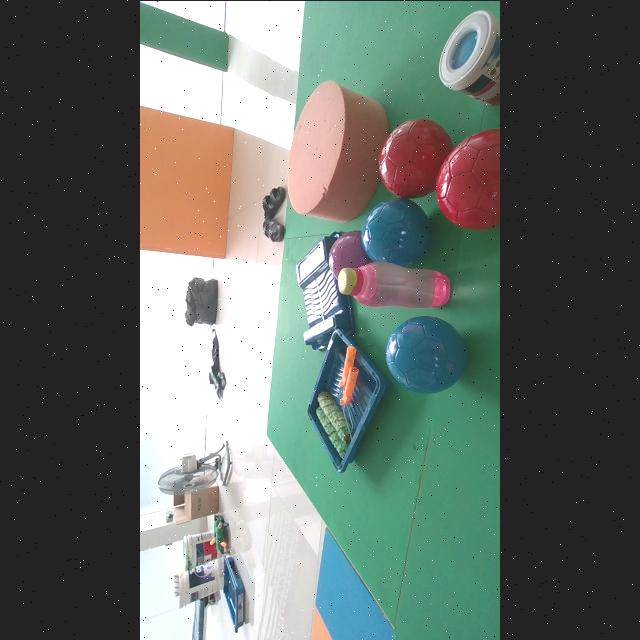B: (386, 315, 467, 392), (361, 198, 430, 265)
P: (329, 230, 372, 278)
R: (435, 128, 500, 229), (379, 118, 452, 198)
